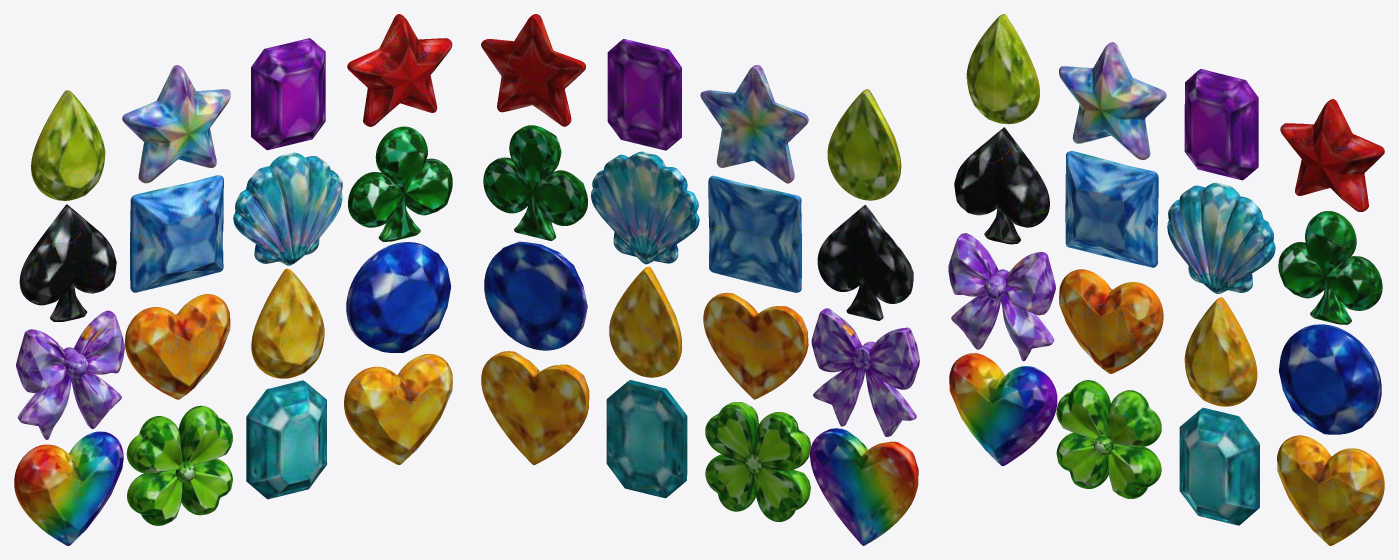
The picture shows the model from 3 angles, left to right: view 1: azimuth 30°, elevation 25°; view 2: azimuth 150°, elevation 25°; view 3: azimuth 330°, elevation 25°; orthographic projection.
Visible parts, largest first — view 1: Mesh 7, Mesh 8, Mesh 14, Mesh 9, Mesh 2, Mesh 1, Mesh 13, Mesh 10, Mesh 6, Mesh 15, Mesh 12, Mesh 3 (+4 smaller); view 2: Mesh 7, Mesh 8, Mesh 9, Mesh 14, Mesh 1, Mesh 2, Mesh 13, Mesh 10, Mesh 6, Mesh 15, Mesh 12, Mesh 3 (+4 smaller); view 3: Mesh 7, Mesh 8, Mesh 14, Mesh 9, Mesh 2, Mesh 1, Mesh 13, Mesh 10, Mesh 6, Mesh 15, Mesh 12, Mesh 3 (+4 smaller).
Boxes of the visible parts, x1,y1,x2,y2 form: Mesh 7: (126,405,232,525); Mesh 8: (130,175,223,292); Mesh 14: (346,242,450,352); Mesh 9: (233,152,342,265); Mesh 2: (16,310,124,439); Mesh 1: (14,431,123,545); Mesh 13: (344,354,452,464); Mesh 10: (246,380,327,499); Mesh 6: (125,294,230,399); Mesh 15: (348,126,452,241); Mesh 12: (251,38,325,150); Mesh 3: (19,204,116,321); Mesh 7: (705,402,810,521); Mesh 8: (708,175,801,292); Mesh 9: (591,151,699,264); Mesh 14: (484,241,587,350); Mesh 1: (810,428,918,545); Mesh 2: (811,308,919,436); Mesh 13: (481,351,589,465); Mesh 10: (606,380,687,498); Mesh 6: (703,292,808,399); Mesh 15: (483,125,587,240); Mesh 12: (607,39,681,150); Mesh 3: (817,204,913,320); Mesh 7: (1056,380,1161,498); Mesh 8: (1065,151,1158,267); Mesh 14: (1279,324,1381,434); Mesh 9: (1167,182,1275,293); Mesh 2: (948,233,1055,361); Mesh 1: (949,353,1057,466); Mesh 13: (1277,435,1384,545); Mesh 10: (1179,407,1259,525); Mesh 6: (1059,269,1163,373); Mesh 15: (1278,211,1382,324); Mesh 12: (1184,69,1258,180); Mesh 3: (954,127,1049,244).
Size of the model in its own units: 1.9 by 1.9 by 0.1185.
1 material, 1 textured.
